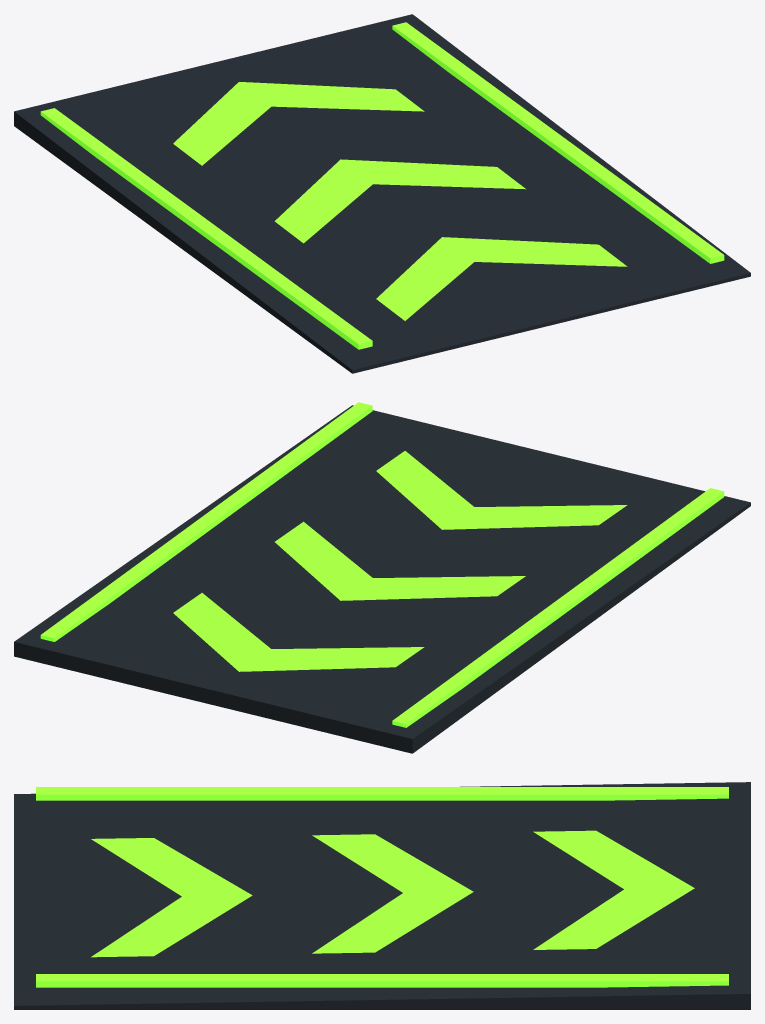
The model's file is boost_pad.glb.
3 views of the same model, one above another, from view 1: azimuth 30°, elevation 25°; view 2: azimuth 150°, elevation 25°; view 3: azimuth 270°, elevation 25° (orthographic). The views are drawn at different scales.
Parts seen in each view (by area): view 1: boost_pad__static; view 2: boost_pad__static; view 3: boost_pad__static.
Boxes of the visible parts, x1,y1,x2,y2 form: boost_pad__static: [14, 14, 750, 373]; boost_pad__static: [14, 402, 750, 753]; boost_pad__static: [14, 782, 750, 1009].
Size of the model in its own units: 3.4 by 0.1475 by 5.
